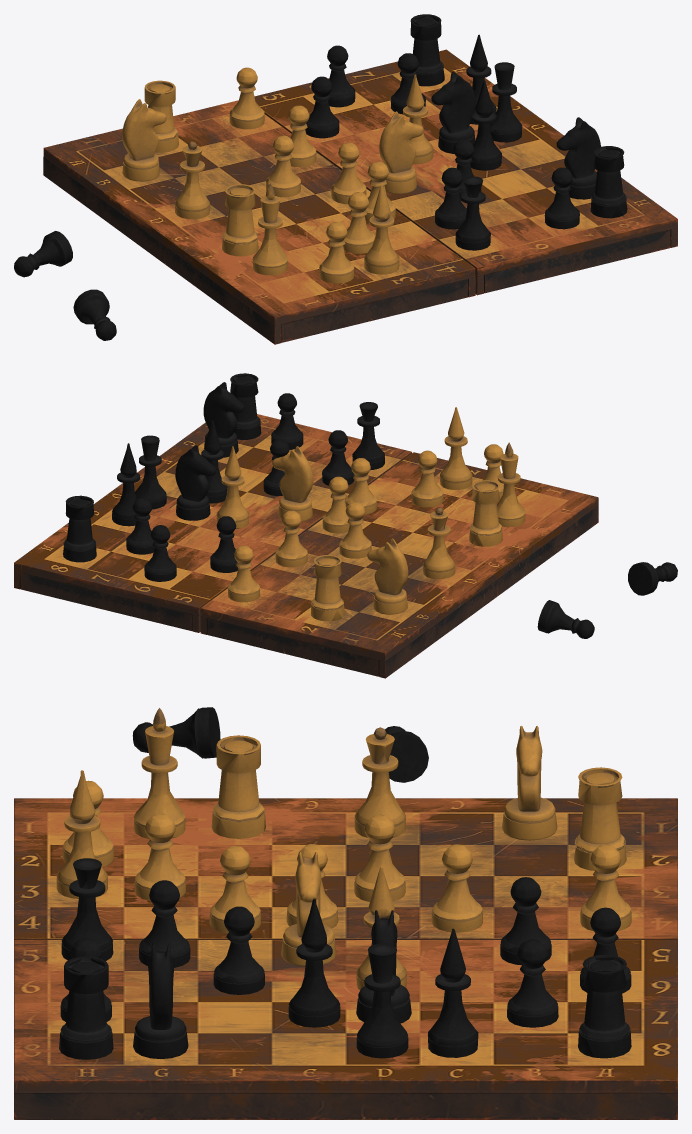
The model's file is chess1.gltf.
3 views of the same model, one above another, from view 1: azimuth 30°, elevation 25°; view 2: azimuth 150°, elevation 25°; view 3: azimuth 270°, elevation 25° (orthographic). The views are drawn at different scales.
Visible parts, largest first — view 1: Mesh_39, Mesh_38, Mesh_54, Mesh_72, Mesh_60, Mesh_68, Mesh_43, Mesh_69, Mesh_66, Mesh_41, Mesh_45, Mesh_67 (+21 smaller); view 2: Mesh_39, Mesh_38, Mesh_54, Mesh_60, Mesh_72, Mesh_66, Mesh_43, Mesh_55, Mesh_68, Mesh_41, Mesh_69, Mesh_45 (+21 smaller); view 3: Mesh_38, Mesh_39, Mesh_43, Mesh_69, Mesh_66, Mesh_55, Mesh_68, Mesh_54, Mesh_67, Mesh_59, Mesh_64, Mesh_45 (+21 smaller).
Boxes of the visible parts, <box> form: Mesh_39: <box>43,100,475,344</box>; Mesh_38: <box>254,49,677,295</box>; Mesh_54: <box>122,99,166,181</box>; Mesh_72: <box>379,111,423,193</box>; Mesh_60: <box>431,71,475,153</box>; Mesh_68: <box>556,117,600,199</box>; Mesh_43: <box>222,184,258,256</box>; Mesh_69: <box>590,146,627,218</box>; Mesh_66: <box>410,14,444,86</box>; Mesh_41: <box>364,184,399,274</box>; Mesh_45: <box>252,195,287,275</box>; Mesh_67: <box>490,62,522,142</box>; Mesh_39: <box>200,452,598,678</box>; Mesh_38: <box>14,414,411,632</box>; Mesh_54: <box>367,538,408,614</box>; Mesh_60: <box>175,445,216,520</box>; Mesh_72: <box>272,446,313,521</box>; Mesh_66: <box>63,495,96,562</box>; Mesh_43: <box>469,480,502,546</box>; Mesh_55: <box>311,555,344,621</box>; Mesh_68: <box>203,382,244,457</box>; Mesh_41: <box>440,407,472,489</box>; Mesh_69: <box>230,373,261,439</box>; Mesh_45: <box>497,453,525,527</box>; Mesh_38: <box>14,940,677,1119</box>; Mesh_39: <box>14,798,677,939</box>; Mesh_43: <box>211,735,265,838</box>; Mesh_69: <box>59,956,113,1059</box>; Mesh_66: <box>578,954,631,1058</box>; Mesh_55: <box>574,767,626,870</box>; Mesh_68: <box>133,943,188,1058</box>; Mesh_54: <box>502,726,557,840</box>; Mesh_67: <box>356,943,408,1058</box>; Mesh_59: <box>288,898,340,1027</box>; Mesh_64: <box>427,928,478,1057</box>; Mesh_45: <box>133,726,185,839</box>.
Size of the model in its own units: 9 by 1.83 by 6.75.
3 materials, 3 textured.
